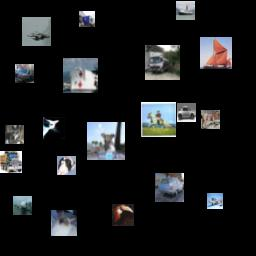airplane: (22, 17, 51, 46), (13, 196, 32, 215), (207, 193, 223, 209)
automobile: (155, 173, 184, 202), (177, 103, 196, 122), (15, 64, 34, 83)
bird: (112, 204, 134, 226)
cat: (51, 210, 77, 236), (43, 117, 65, 139), (5, 125, 24, 144)
dog: (87, 122, 125, 160), (57, 156, 76, 175)
ship: (63, 58, 98, 93), (200, 37, 232, 69), (176, 1, 195, 20)
truck: (145, 45, 180, 80), (0, 151, 22, 173), (79, 11, 95, 27)
